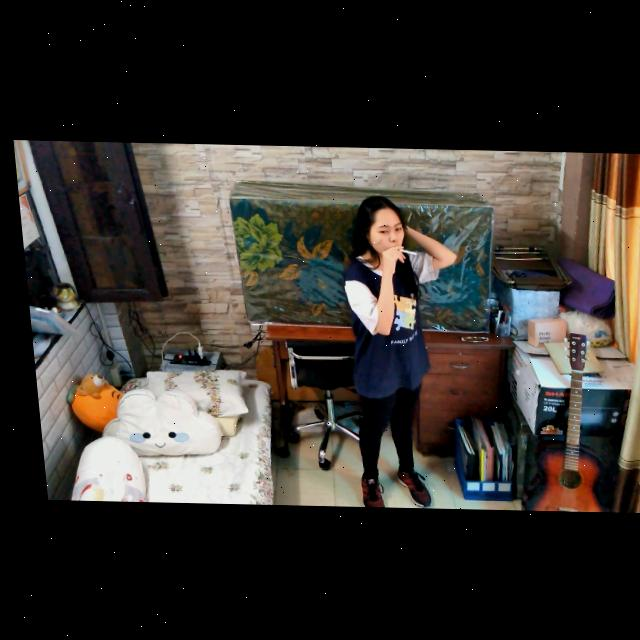cigarette: (392, 248, 413, 254)
